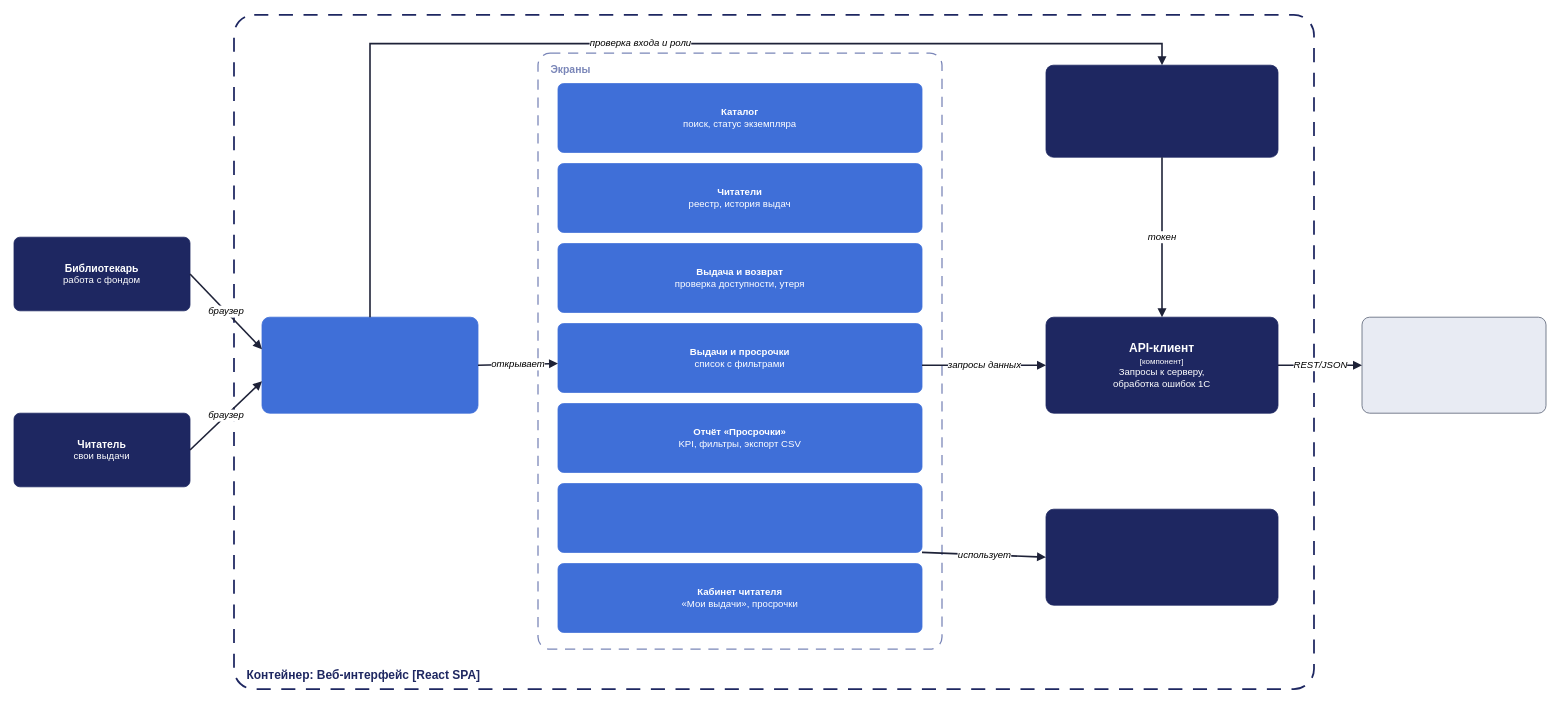
This 1560x704 diagram has some shape labels left out. Here are the shapes that lost their labels. From the top down, the centre of each, then its label:
At point (1161, 110): "Модуль авторизации [компонент] Вход, токен, роль, ошибка входа".
At point (369, 364): "Маршрутизатор [компонент] Каркас SPA, маршруты по ролям".
At point (1453, 364): "Сервер приложения (контейнер) Node.js".
At point (739, 517): "Импорт CSV загрузка, протокол ошибок".
At point (1161, 556): "UI-библиотека [компонент] Таблица с фильтрами, формы с проверкой полей".
